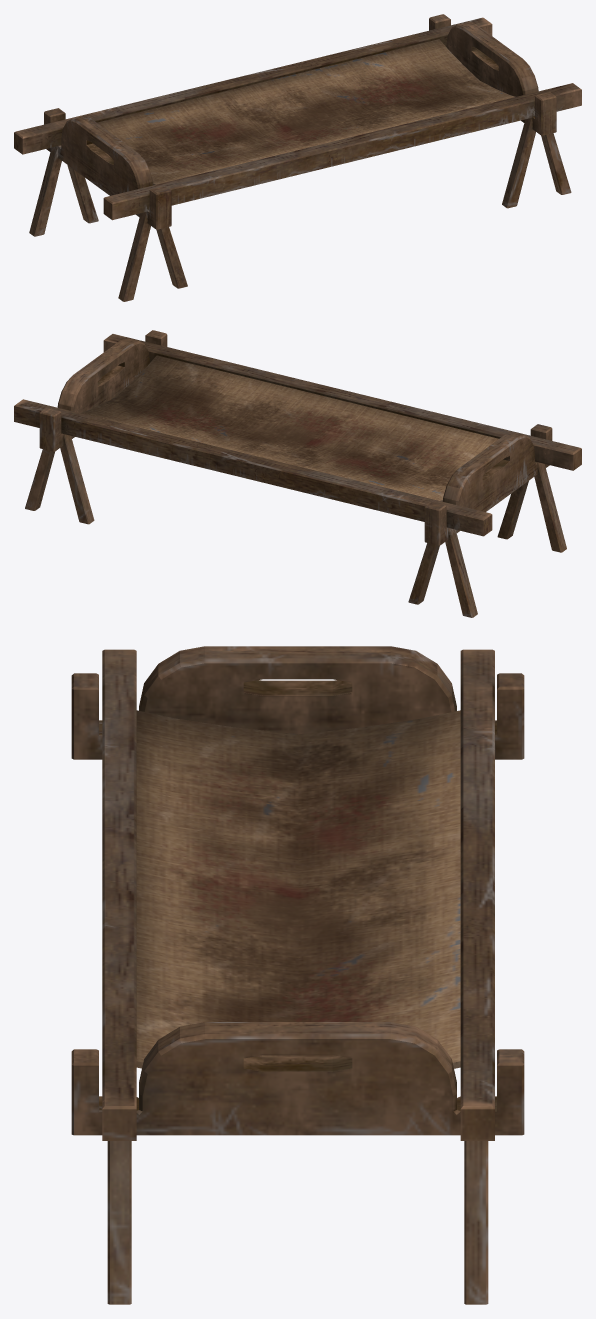
The model's file is SM_Bed_Bunker.glb.
The picture shows the model from 3 angles, top to bottom: view 1: azimuth 30°, elevation 25°; view 2: azimuth 150°, elevation 25°; view 3: azimuth 270°, elevation 25°; orthographic projection. The views are drawn at different scales.
Parts seen in each view (by area): view 1: SM_BedCot_Bunker; view 2: SM_BedCot_Bunker; view 3: SM_BedCot_Bunker.
Boxes of the visible parts, x1,y1,x2,y2 form: SM_BedCot_Bunker: (14,14,581,301); SM_BedCot_Bunker: (14,330,581,617); SM_BedCot_Bunker: (71,646,524,1304).
Bounding box in the file's own units: 2.44 × 0.6103 × 1.02.
1 material, 1 textured.
